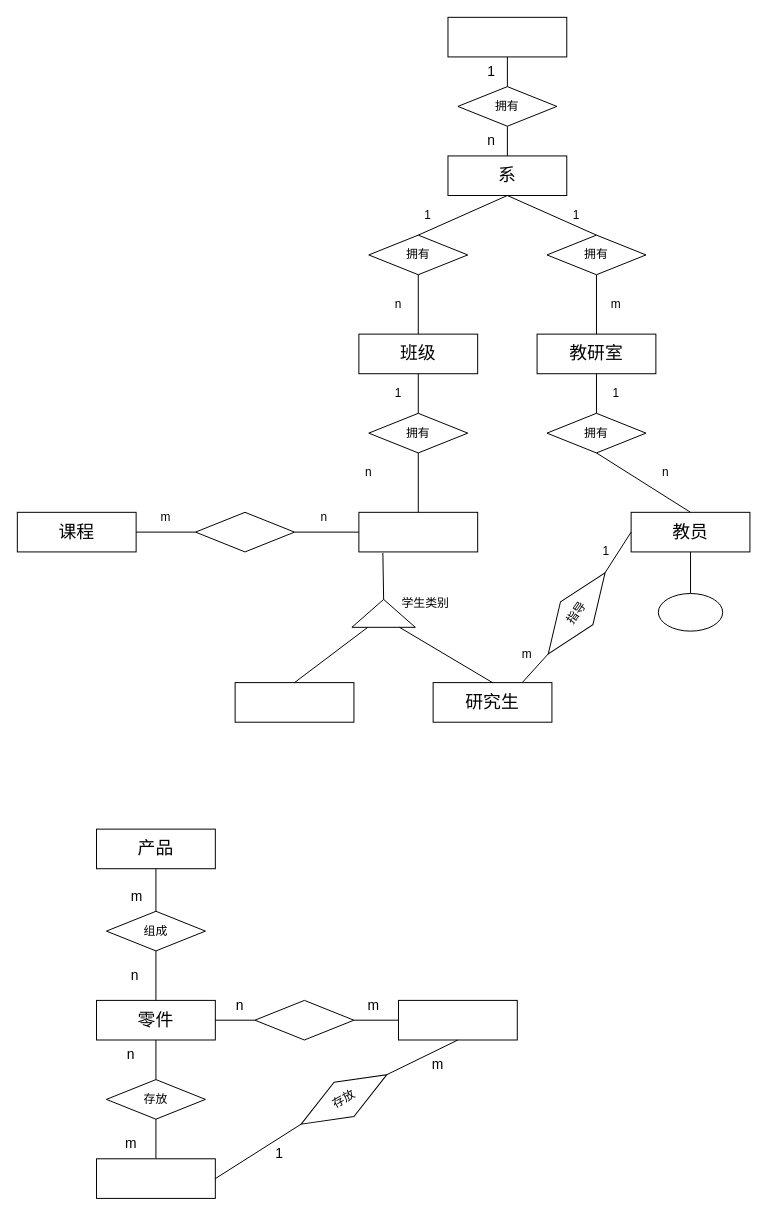
Image size: 767x1216. Some labels were removed from this diagram. The centre of each missing label's shape, as x and y in pixels:
仓库: the point at 155,1178
原材料: the point at 457,1019
学校: the point at 507,36
学生: the point at 418,531
本科生: the point at 294,702
构成: the point at 304,1019
职称: the point at 690,612
选修: the point at 245,531
